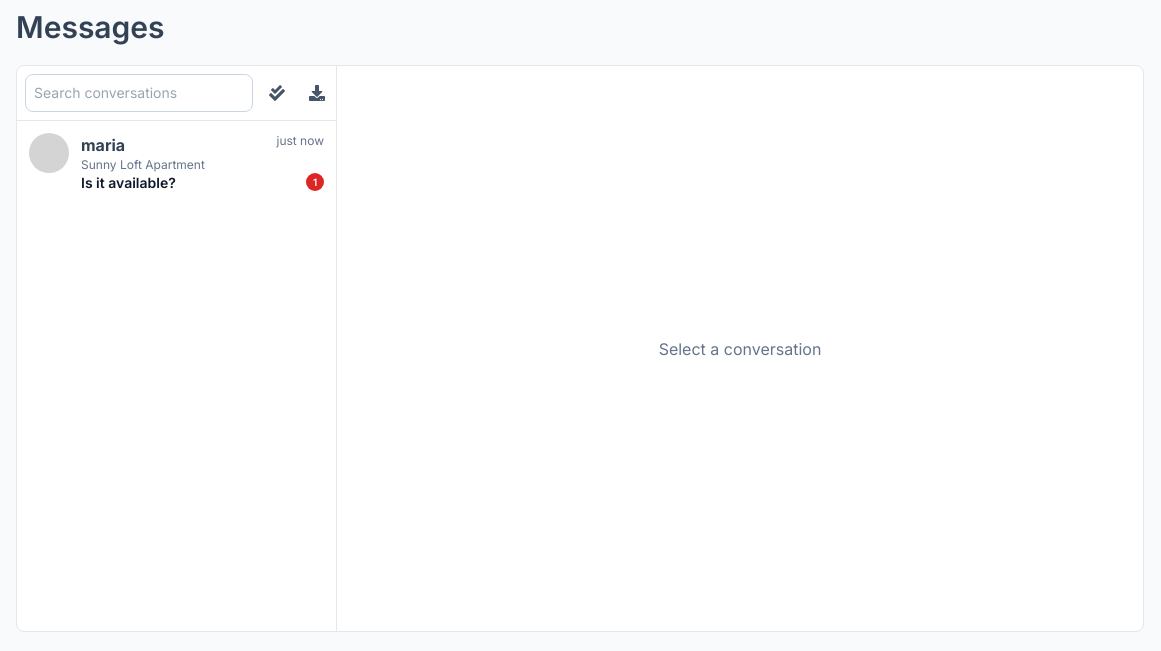
it: Messages page › opens a conversation from the list
Click the link "maria just now Sunny Loft Apartment Is it available? 1" at (176, 163), box x1=17 y1=121 x2=336 y2=205
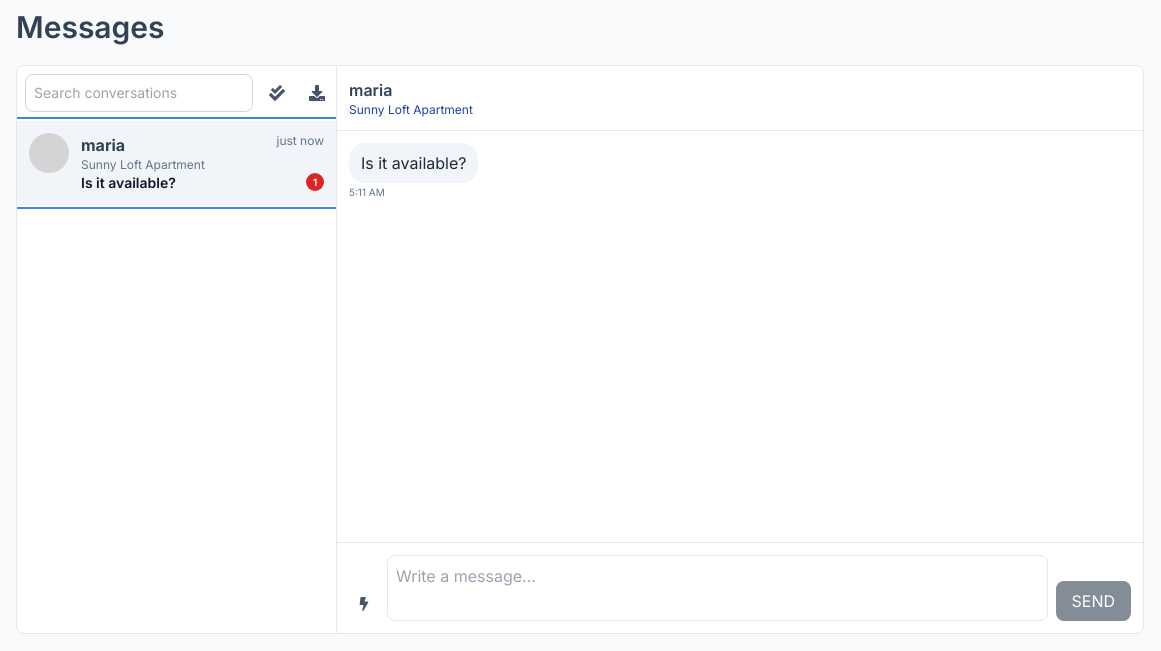
Expected: the text box labelled "message" is shown, x1=387 y1=555 x2=1048 y2=621
